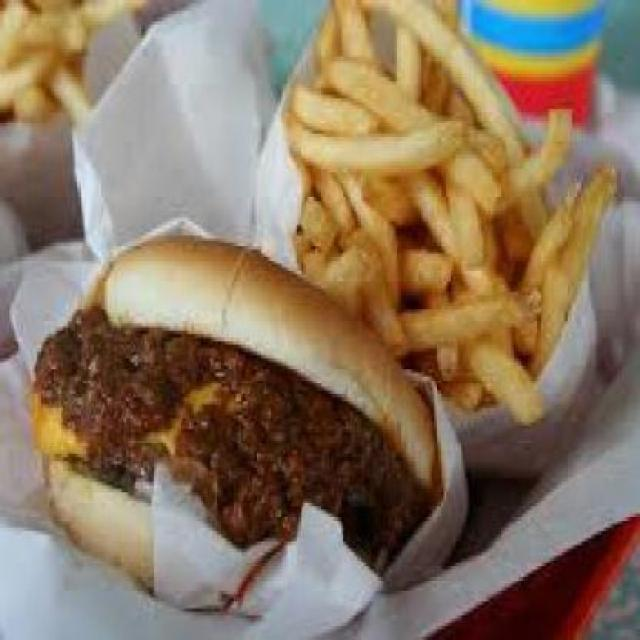hamburger: (23, 221, 460, 619)
